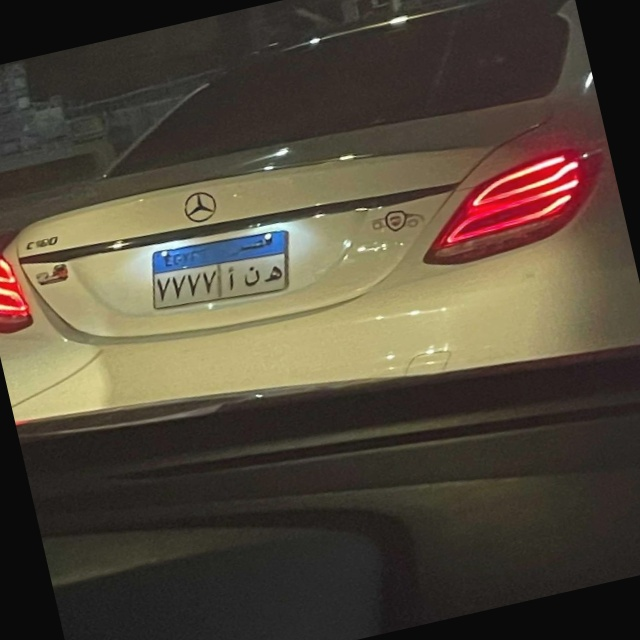License Plate: (125, 215, 313, 324)
